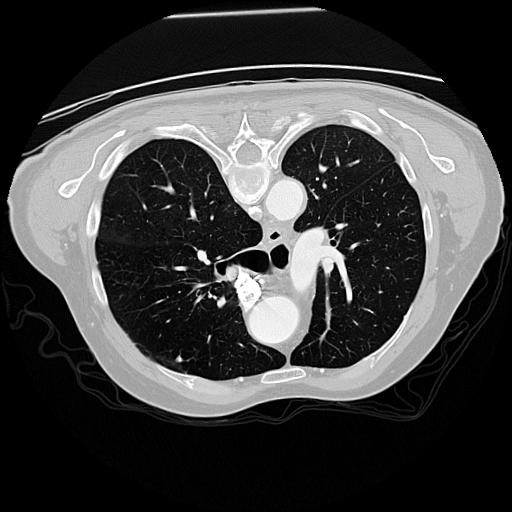nodule: (172, 355, 185, 368)
